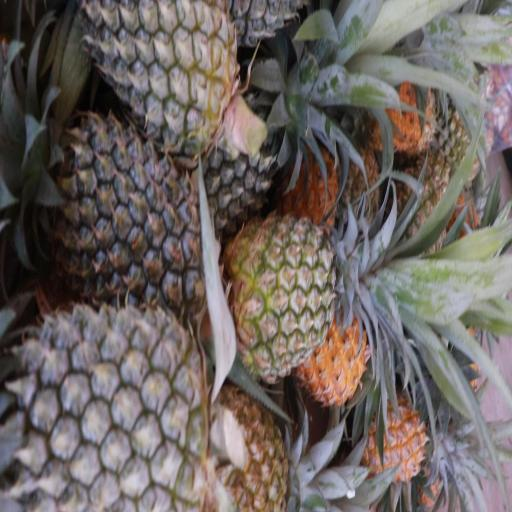------------------------------: (225, 211, 344, 371), (207, 383, 297, 512)
Pineapple - v8 v1: (359, 386, 441, 486), (300, 297, 370, 408)
